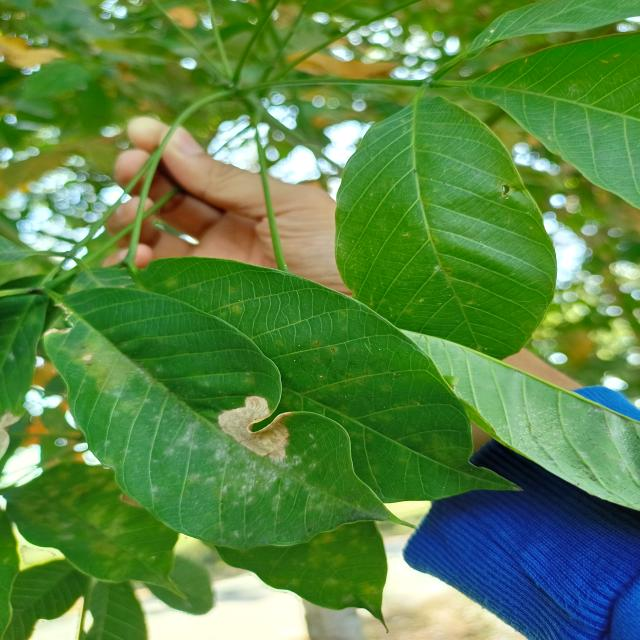Leaf-Blight: (218, 395, 293, 459)
